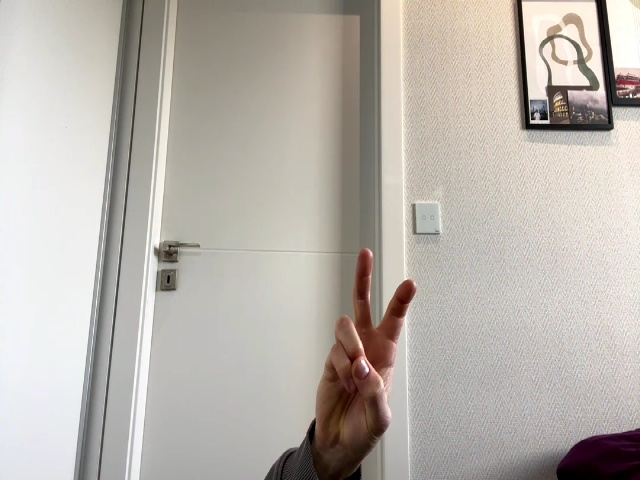H: (315, 248, 416, 440)
